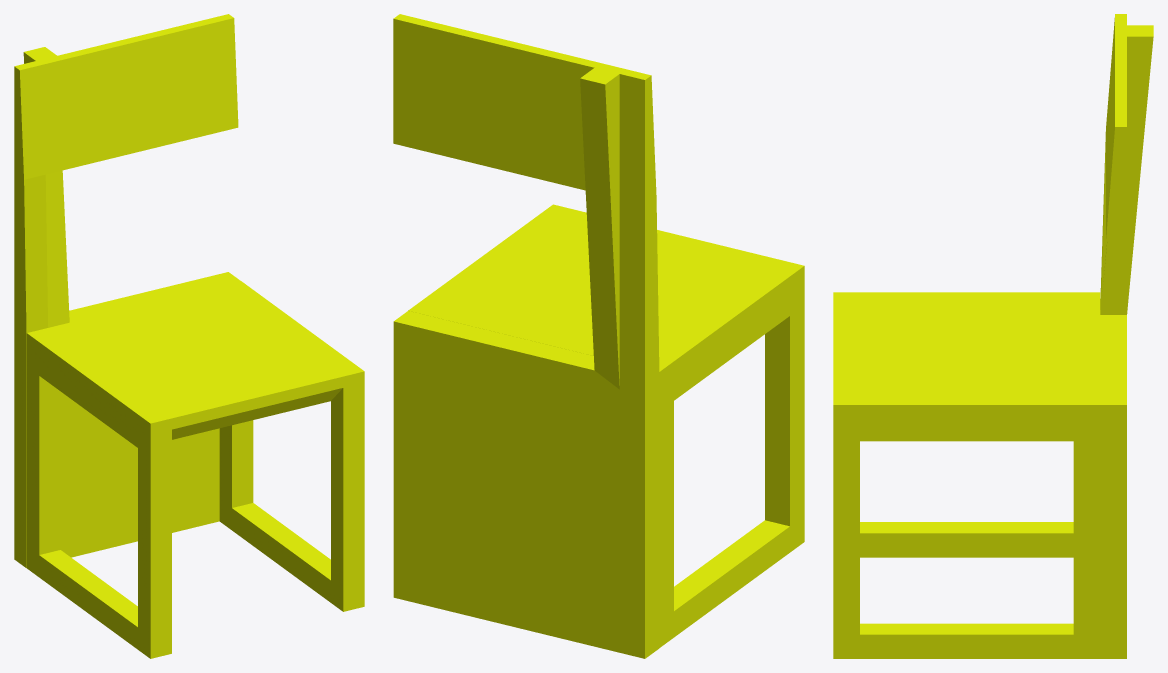
Rendered from Chair1.FBX.
3 renders of one model, left to right at view 1: azimuth 30°, elevation 25°; view 2: azimuth 150°, elevation 25°; view 3: azimuth 270°, elevation 25°, orthographic. The views are drawn at different scales.
Parts seen in each view (by area): view 1: Box011; view 2: Box011; view 3: Box011.
Part boxes in pixels (bbox=[...]): Box011: bbox=[14, 14, 364, 658]; Box011: bbox=[393, 14, 804, 658]; Box011: bbox=[833, 14, 1153, 658].
Size of the model in its own units: 0.6311 by 1.39 by 0.7564.
